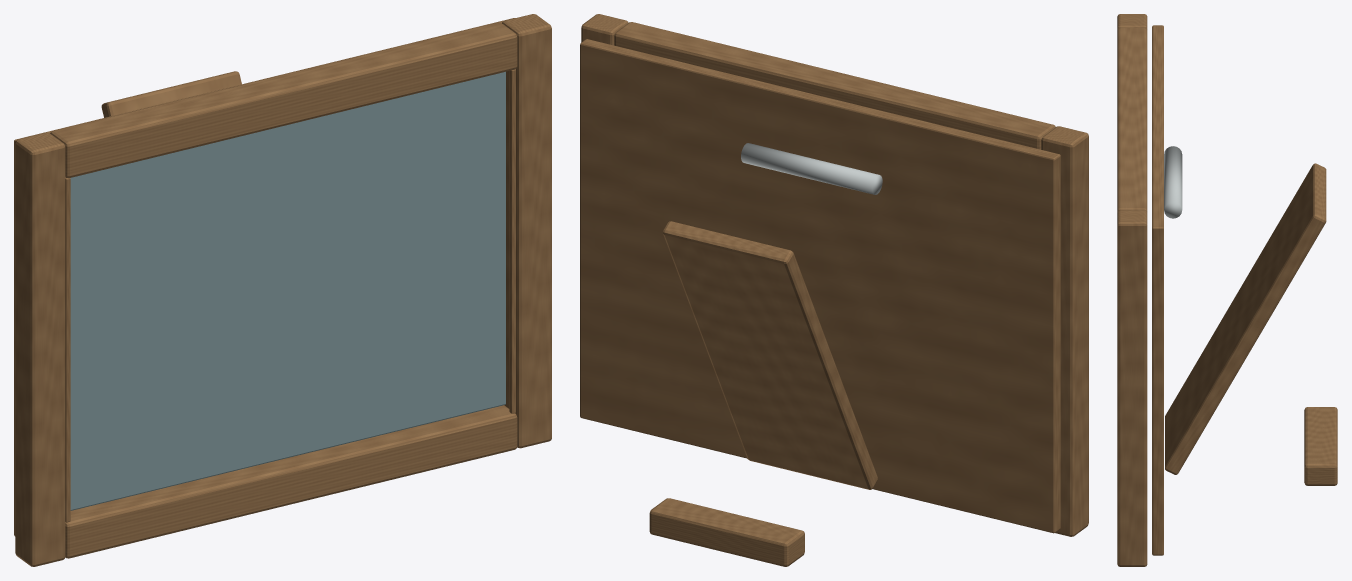
The picture shows the model from 3 angles, left to right: view 1: azimuth 30°, elevation 25°; view 2: azimuth 150°, elevation 25°; view 3: azimuth 270°, elevation 25°; orthographic projection. The views are drawn at different scales.
Visible parts, largest first — view 1: REPLACEABLE blank photo panel, Frame closed hardboard rear; view 2: Frame closed hardboard rear, Easel hinge; view 3: Frame closed hardboard rear, Easel hinge.
Boxes of the visible parts, <box> form: REPLACEABLE blank photo panel: <box>70,71,505,510</box>; Frame closed hardboard rear: <box>14,14,551,566</box>; Frame closed hardboard rear: <box>580,14,1088,566</box>; Easel hinge: <box>741,143,882,194</box>; Frame closed hardboard rear: <box>1117,14,1337,566</box>; Easel hinge: <box>1164,146,1182,218</box>.
Size of the model in its own units: 0.33 by 0.252 by 0.146.
3 materials, 1 textured.
